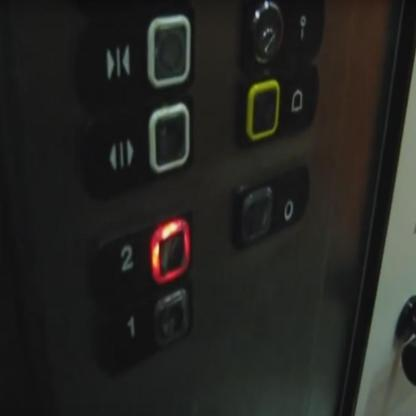0: (230, 164, 310, 248)
1: (89, 279, 198, 364)
2: (88, 213, 198, 303)
alarm: (231, 66, 318, 153)
close: (74, 3, 195, 98)
open: (78, 95, 196, 194)
unknown: (235, 0, 328, 65)
